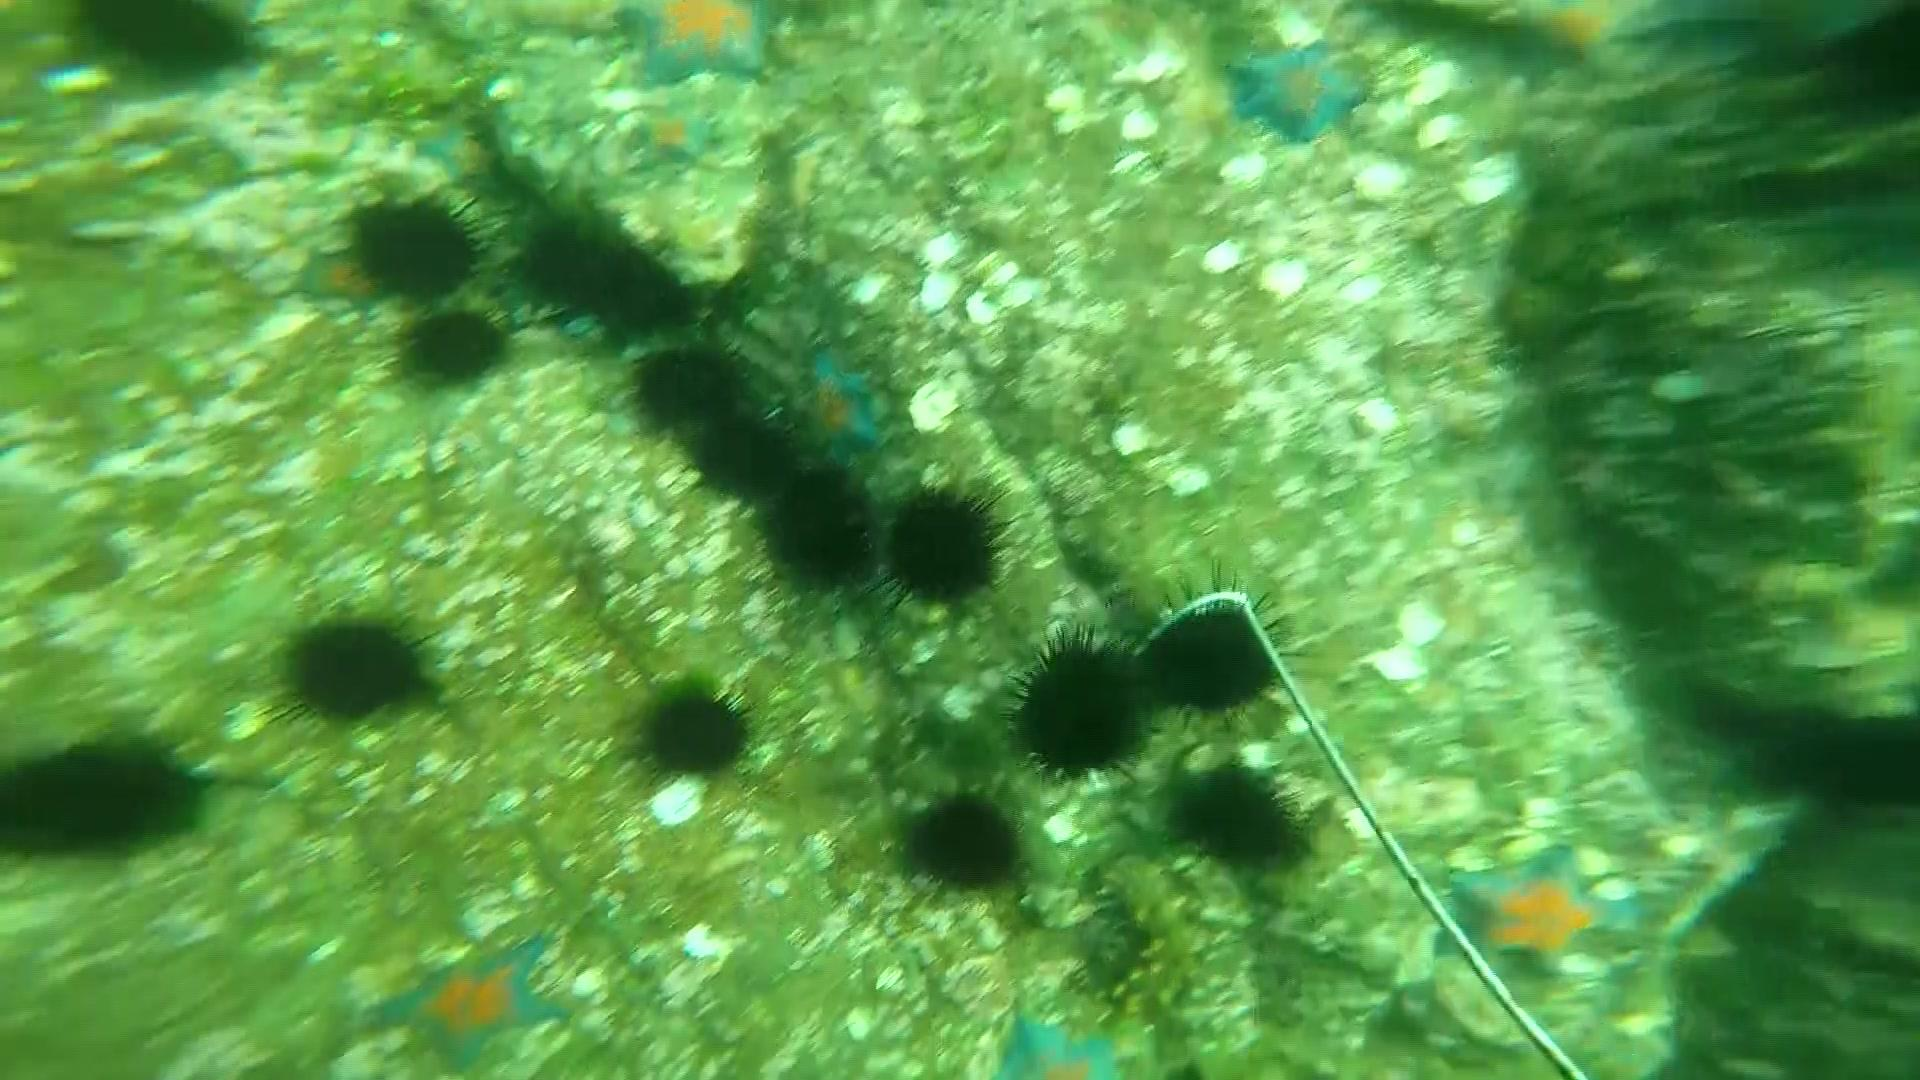echinus: (1, 736, 218, 868), (1135, 559, 1299, 728), (1001, 622, 1156, 789), (252, 615, 440, 738), (877, 476, 1025, 613), (340, 189, 498, 311), (1167, 756, 1316, 876), (899, 779, 1035, 909), (629, 673, 767, 793), (70, 1, 266, 83), (765, 464, 885, 593), (632, 339, 741, 438), (696, 404, 807, 501), (398, 299, 514, 390), (595, 245, 694, 342), (522, 216, 615, 313)
holothurian: (1091, 844, 1211, 1033)
starfish: (368, 928, 582, 1080), (1443, 831, 1643, 989), (604, 4, 791, 98), (1218, 41, 1377, 148), (790, 345, 897, 469), (990, 1011, 1130, 1080), (626, 98, 727, 177)
